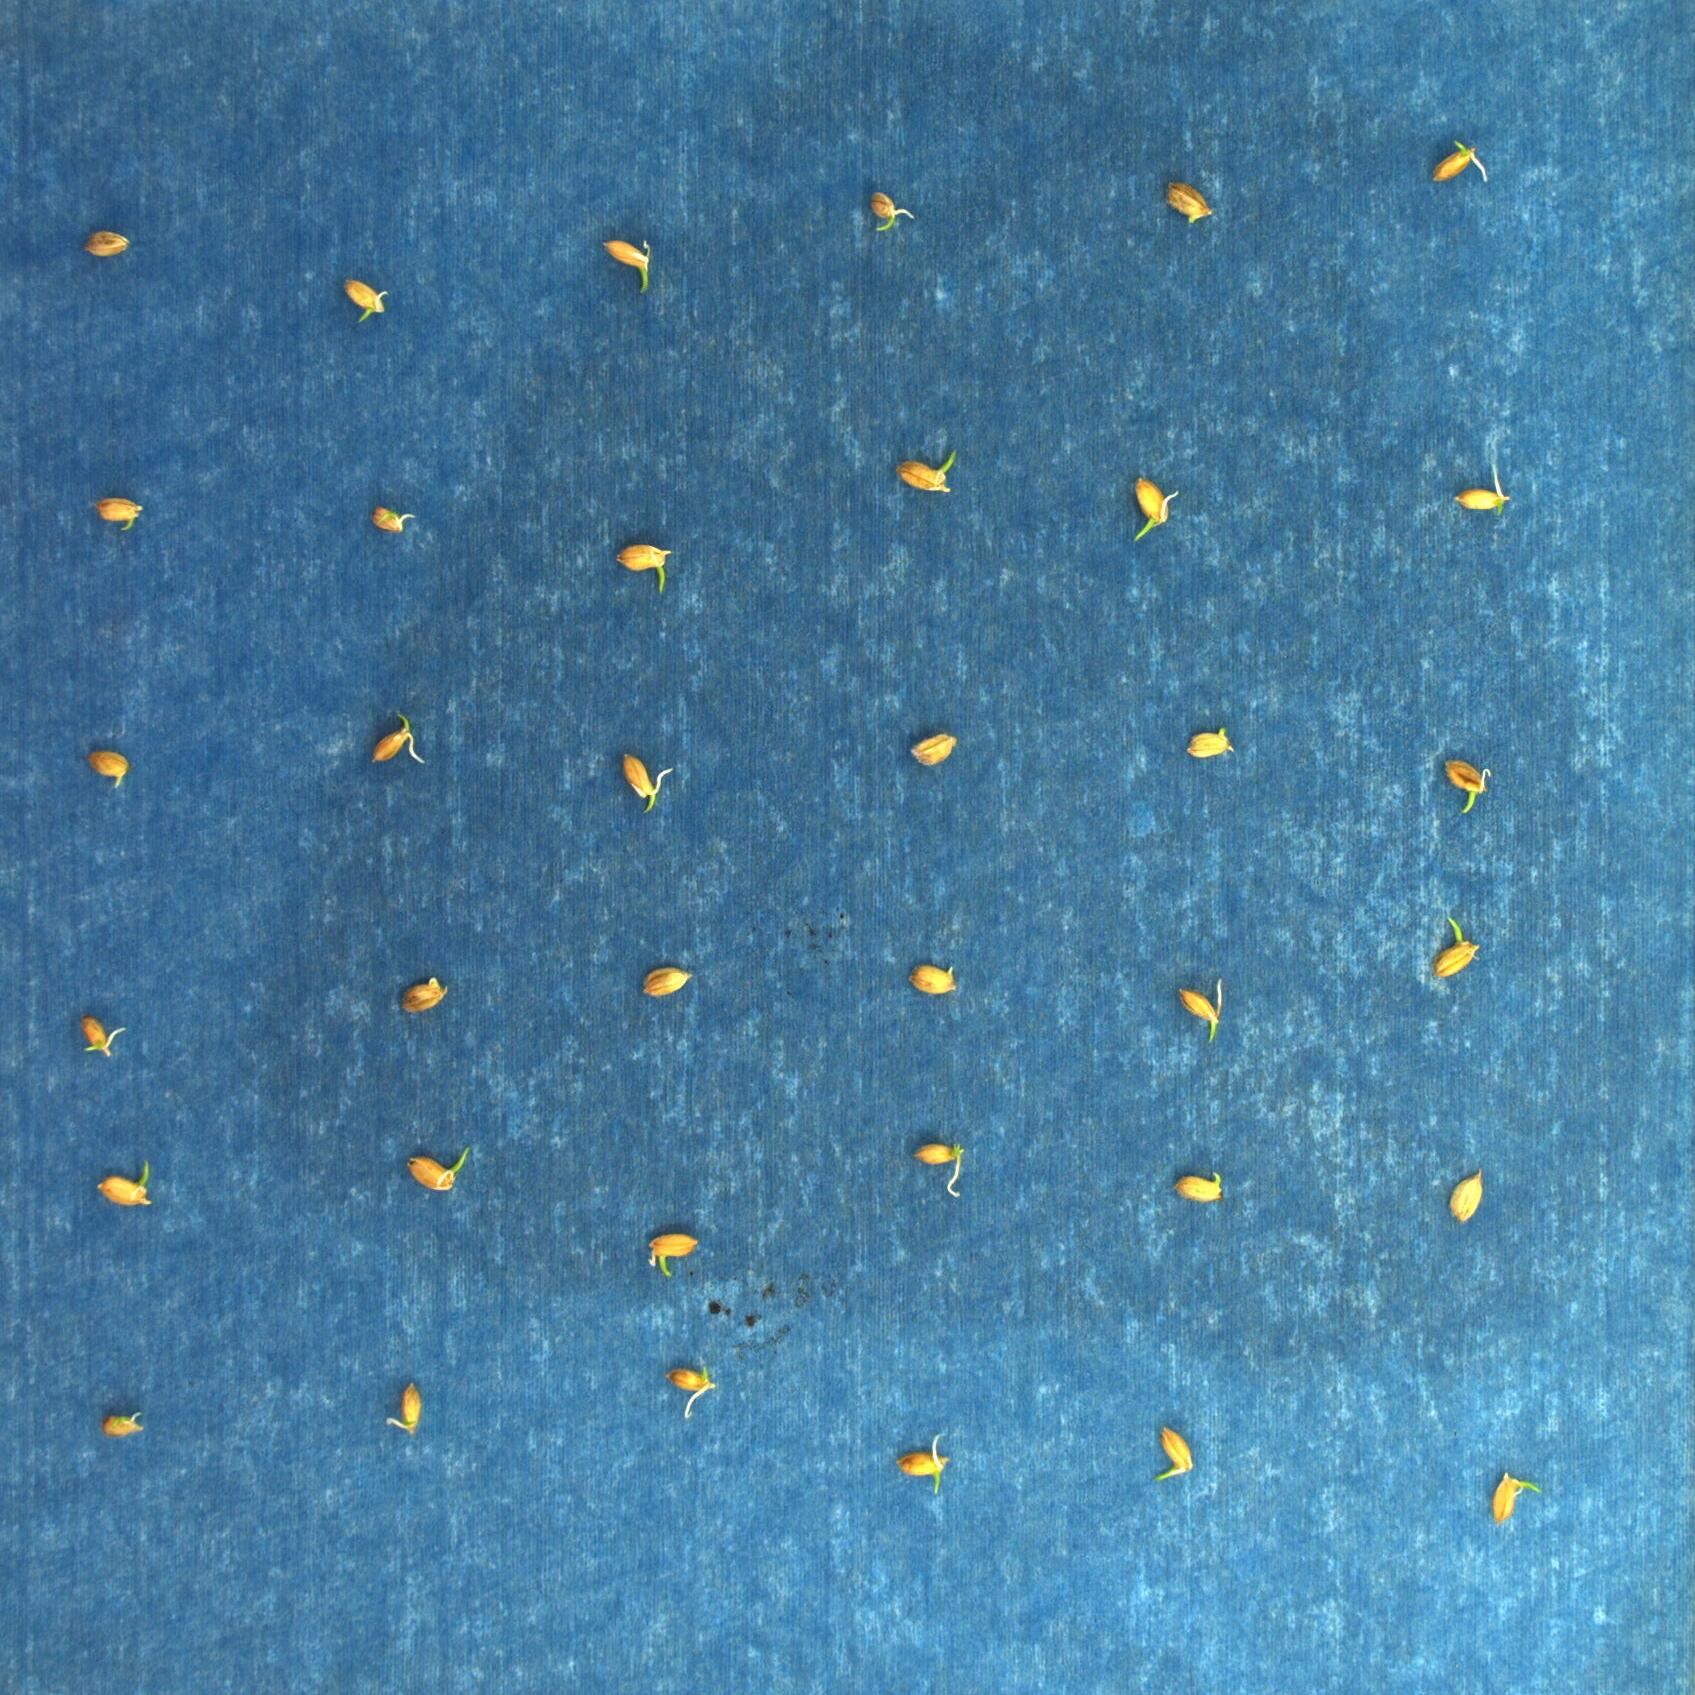not sprout: (1454, 442, 1513, 518), (615, 740, 674, 816), (903, 1139, 972, 1205), (1173, 965, 1225, 1045), (363, 703, 425, 764), (397, 969, 453, 1023), (1158, 179, 1218, 227), (70, 1010, 127, 1060), (1428, 135, 1487, 183), (1177, 719, 1237, 764), (1447, 1164, 1484, 1225), (383, 1383, 428, 1433), (82, 747, 132, 790), (1164, 1170, 1225, 1205), (95, 490, 140, 534), (636, 965, 692, 1000), (338, 279, 385, 320), (903, 965, 959, 998), (910, 728, 953, 768), (373, 498, 419, 534), (81, 224, 127, 258), (99, 1408, 143, 1437)
sprout: (897, 1420, 955, 1496), (1124, 473, 1180, 546), (85, 1156, 158, 1211), (1437, 745, 1495, 812), (400, 1141, 470, 1194), (893, 444, 958, 498), (1420, 914, 1479, 967), (674, 1354, 716, 1426), (647, 1229, 705, 1281), (1485, 1465, 1544, 1515), (599, 234, 653, 287), (1152, 1425, 1194, 1485), (615, 540, 666, 588), (868, 186, 913, 230)
